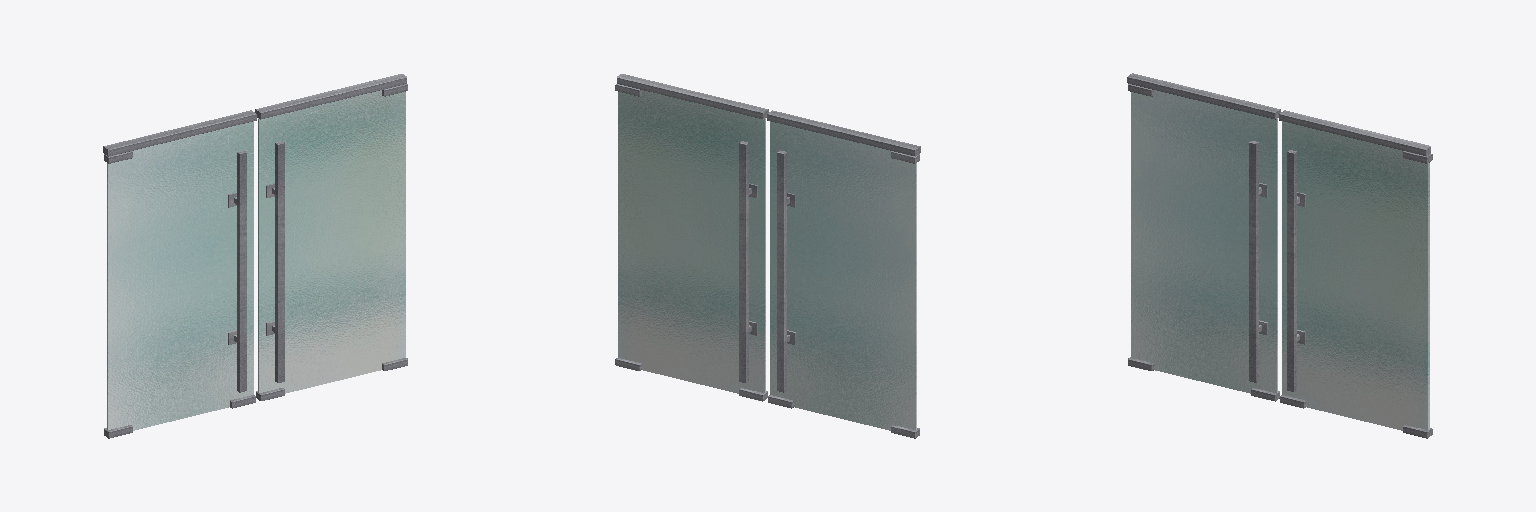
3 views of the same model, side by side, from view 1: azimuth 30°, elevation 25°; view 2: azimuth 150°, elevation 25°; view 3: azimuth 330°, elevation 25° (orthographic).
Parts seen in each view (by area): view 1: Object004.001, Object004, ChamferBox002, ChamferBox002.001, ChamferBox001, ChamferBox001.001, ChamferBox003, ChamferBox003.001; view 2: Object004.001, Object004, ChamferBox002, ChamferBox002.001, ChamferBox001, ChamferBox001.001, ChamferBox003, ChamferBox003.001; view 3: Object004.001, Object004, ChamferBox002, ChamferBox002.001, ChamferBox001, ChamferBox001.001, ChamferBox003.001, ChamferBox003.
Part boxes in pixels (left/top/right/bottom): Object004.001: left=258, top=90, right=405, bottom=393; Object004: left=107, top=121, right=253, bottom=430; ChamferBox002: left=228, top=150, right=246, bottom=392; ChamferBox002.001: left=266, top=141, right=284, bottom=382; ChamferBox001: left=103, top=110, right=256, bottom=156; ChamferBox001.001: left=255, top=74, right=406, bottom=119; ChamferBox003: left=104, top=151, right=255, bottom=438; ChamferBox003.001: left=256, top=84, right=407, bottom=400; Object004.001: left=618, top=90, right=765, bottom=393; Object004: left=770, top=121, right=916, bottom=430; ChamferBox002: left=777, top=150, right=795, bottom=392; ChamferBox002.001: left=739, top=141, right=757, bottom=382; ChamferBox001: left=767, top=110, right=920, bottom=156; ChamferBox001.001: left=617, top=74, right=768, bottom=119; ChamferBox003: left=768, top=151, right=919, bottom=438; ChamferBox003.001: left=615, top=84, right=767, bottom=401; Object004.001: left=1282, top=121, right=1429, bottom=430; Object004: left=1131, top=90, right=1277, bottom=393; ChamferBox002: left=1249, top=140, right=1267, bottom=382; ChamferBox002.001: left=1287, top=150, right=1305, bottom=391; ChamferBox001: left=1127, top=73, right=1280, bottom=119; ChamferBox001.001: left=1279, top=110, right=1430, bottom=155; ChamferBox003.001: left=1280, top=151, right=1432, bottom=438; ChamferBox003: left=1128, top=84, right=1279, bottom=401.
Size of the model in its own units: 3.26 by 3 by 0.2807.
Materials: 4 (2 with a texture image).